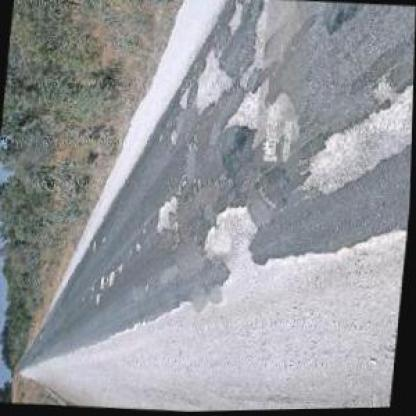pothole: (297, 72, 413, 205), (197, 203, 262, 273), (188, 47, 235, 118), (221, 83, 264, 137), (153, 196, 183, 236), (225, 0, 244, 42), (106, 269, 119, 291), (93, 293, 103, 305)
